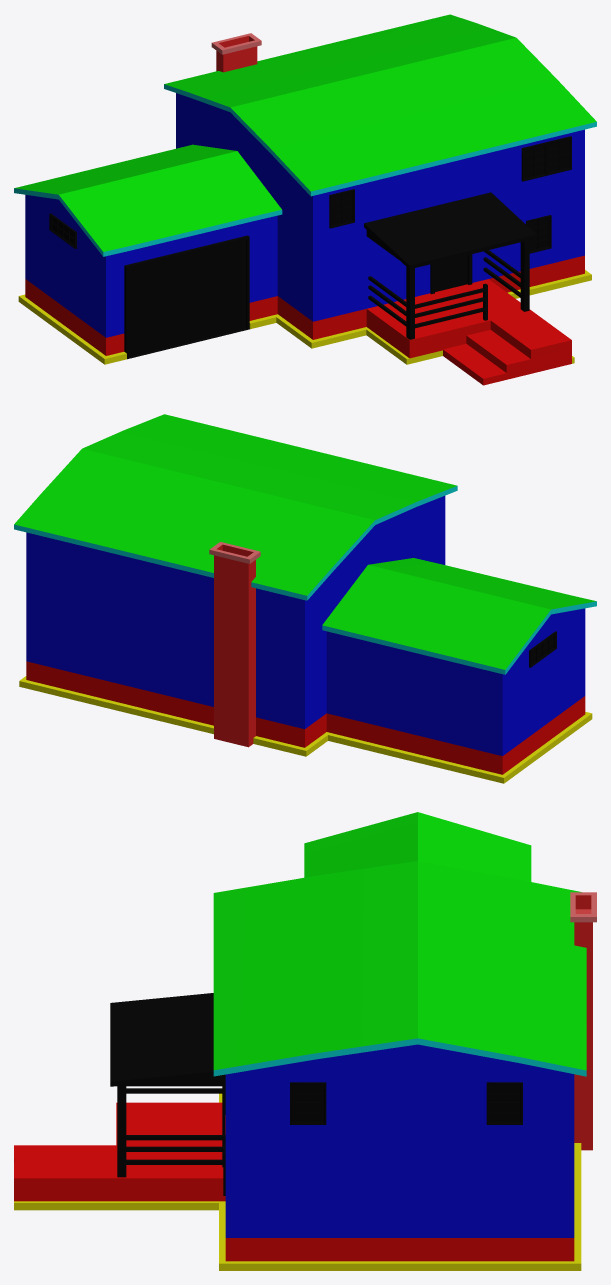
The model's file is SM_Suburb_Building1_Low.fbx.
3 renders of one model, top to bottom at view 1: azimuth 30°, elevation 25°; view 2: azimuth 150°, elevation 25°; view 3: azimuth 270°, elevation 25°, orthographic. The views are drawn at different scales.
Visible parts, largest first — view 1: SM_Suburb_Building1_Low; view 2: SM_Suburb_Building1_Low; view 3: SM_Suburb_Building1_Low.
Boxes of the visible parts, x1,y1,x2,y2 form: SM_Suburb_Building1_Low: [14, 14, 596, 385]; SM_Suburb_Building1_Low: [14, 414, 596, 783]; SM_Suburb_Building1_Low: [14, 812, 596, 1270].
Bounding box in the file's own units: 12.61 × 10.95 × 4.87.
